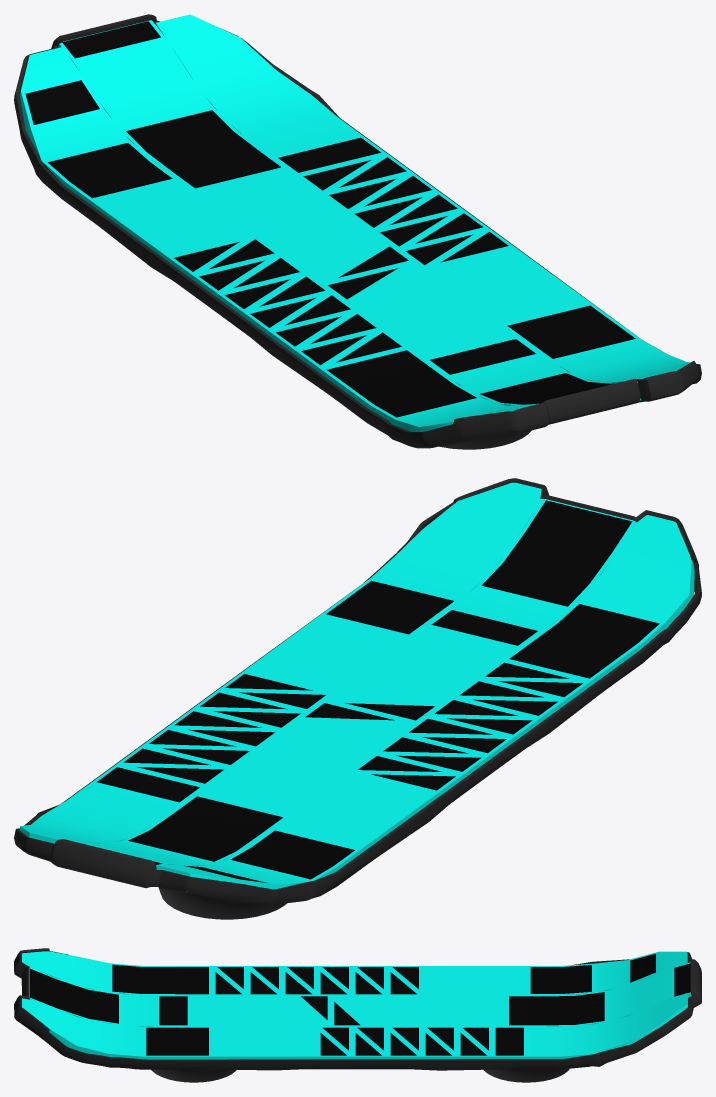
The model's file is skateboard.glb.
The picture shows the model from 3 angles, top to bottom: view 1: azimuth 30°, elevation 25°; view 2: azimuth 150°, elevation 25°; view 3: azimuth 270°, elevation 25°; orthographic projection. The views are drawn at different scales.
Visible parts, largest first — view 1: Cube.003, Circle.001, Cone; view 2: Cube.003, Circle.001, Cone.001; view 3: Cube.003, Circle.001, Cone.001, Cone.
Part boxes in pixels (left/top/right/bottom): Cube.003: left=19, top=14, right=689, bottom=431; Circle.001: left=14, top=14, right=701, bottom=448; Cone: left=439, top=430, right=531, bottom=449; Cube.003: left=19, top=482, right=694, bottom=891; Circle.001: left=14, top=478, right=701, bottom=905; Cone.001: left=158, top=887, right=286, bottom=919; Cube.003: left=22, top=951, right=691, bottom=1059; Circle.001: left=14, top=948, right=701, bottom=1070; Cone.001: left=483, top=1068, right=569, bottom=1082; Cone: left=151, top=1069, right=236, bottom=1082.
Bounding box in the file's own units: 0.3191 × 0.1403 × 0.9832.
